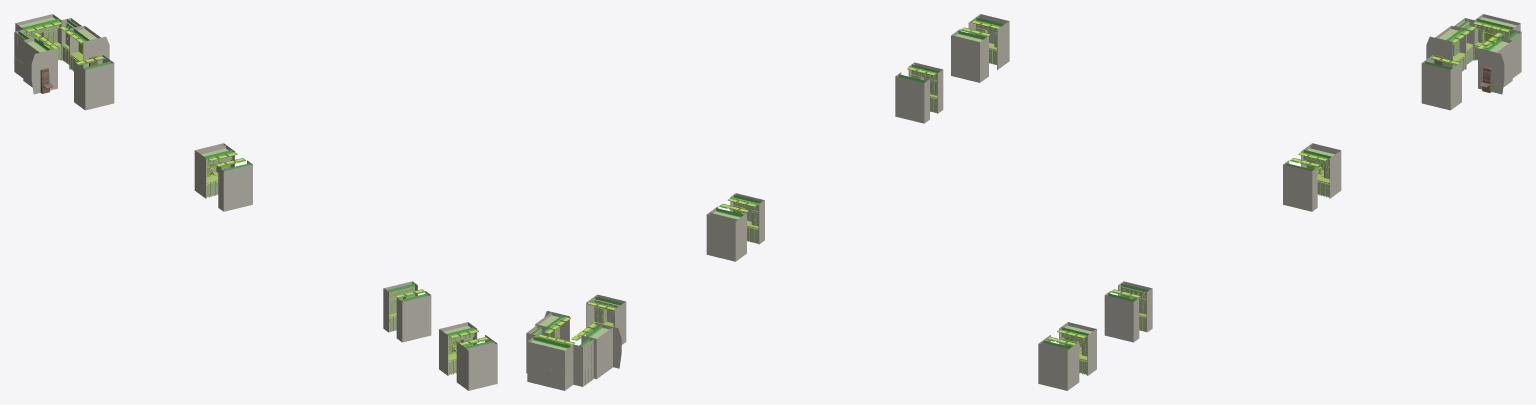
The model's file is Galleys.fbx.
3 renders of one model, left to right at view 1: azimuth 30°, elevation 25°; view 2: azimuth 150°, elevation 25°; view 3: azimuth 330°, elevation 25°, orthographic.
Parts seen in each view (by area): view 1: Walls_2; view 2: Walls_2; view 3: Walls_2.
Part boxes in pixels (bbox=[...]): Walls_2: bbox=[14, 14, 497, 390]; Walls_2: bbox=[526, 14, 1009, 390]; Walls_2: bbox=[1038, 14, 1521, 390].
Bounding box in the file's own units: 499 × 248 × 4978.
